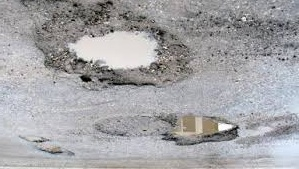pothole: (36, 15, 190, 83), (159, 112, 238, 144), (88, 113, 155, 138), (34, 143, 70, 158), (14, 135, 48, 142)
